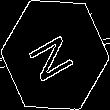N_NE: (27, 26, 83, 84)
